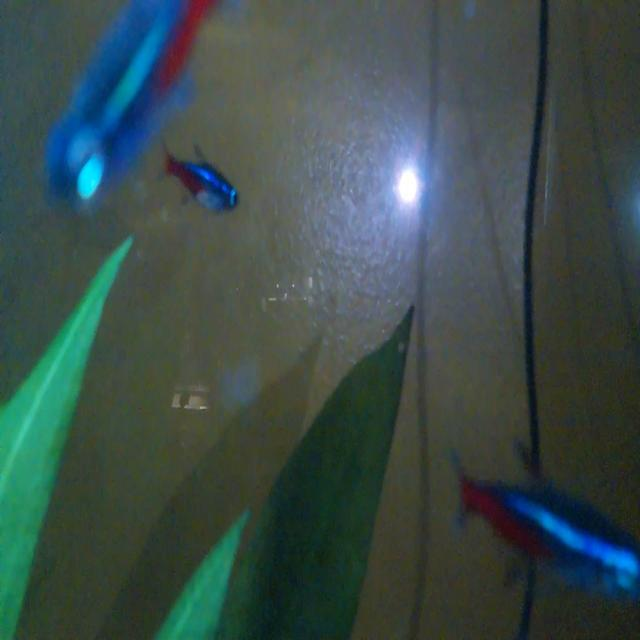fish: (440, 423, 640, 615), (159, 133, 245, 228)
